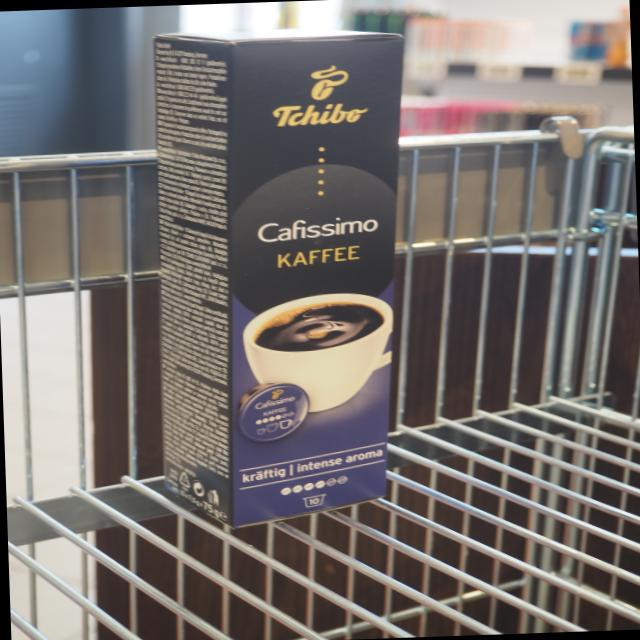Simo Kaffee Kraft: (149, 27, 416, 546)
